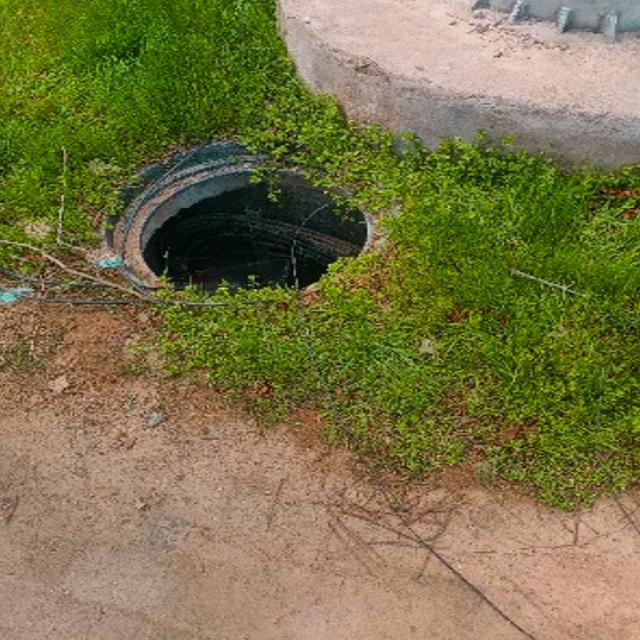lose: (108, 140, 383, 306)
